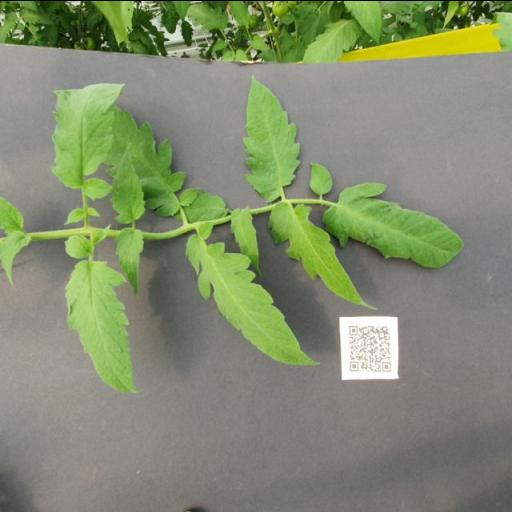Healthy: (185, 220, 321, 364), (322, 180, 464, 267), (267, 200, 378, 310), (64, 259, 143, 393), (53, 81, 125, 200), (242, 72, 302, 204), (229, 204, 263, 276), (115, 227, 145, 297), (309, 160, 333, 194)
